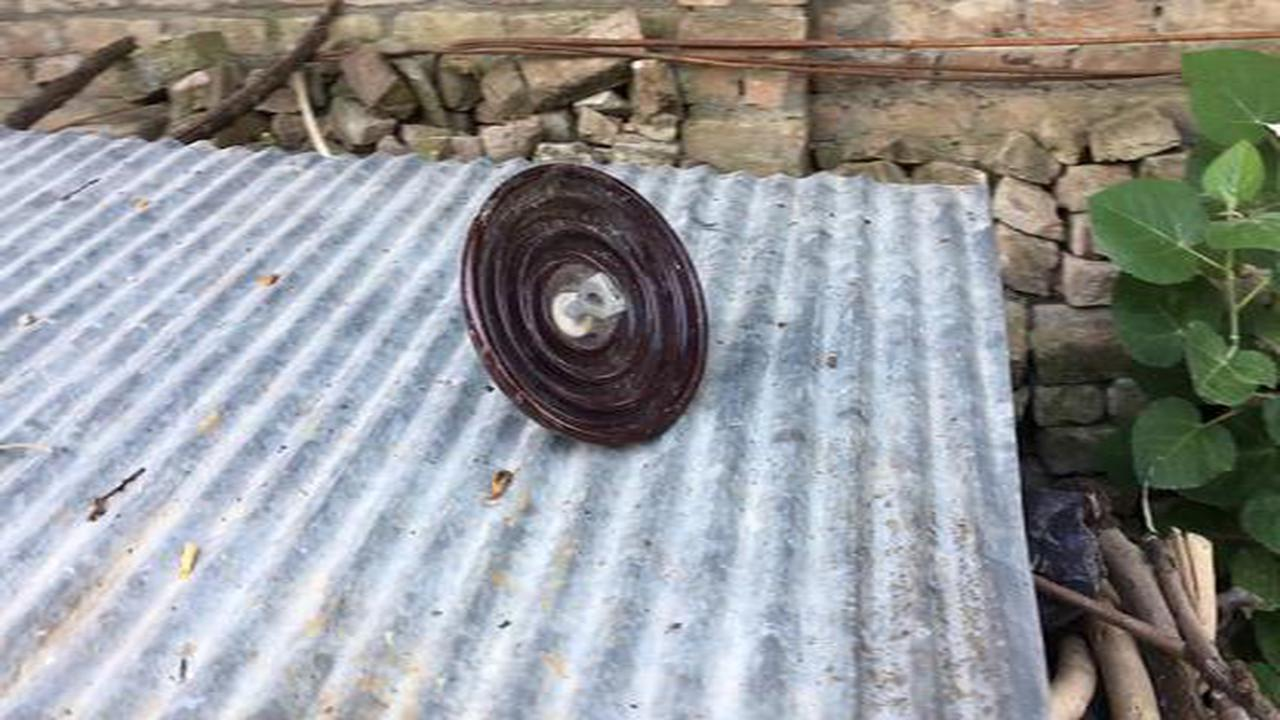insulator_disc: (459, 160, 715, 446)
